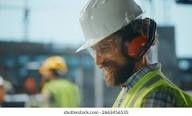safety_goggles: (79, 30, 138, 61)
